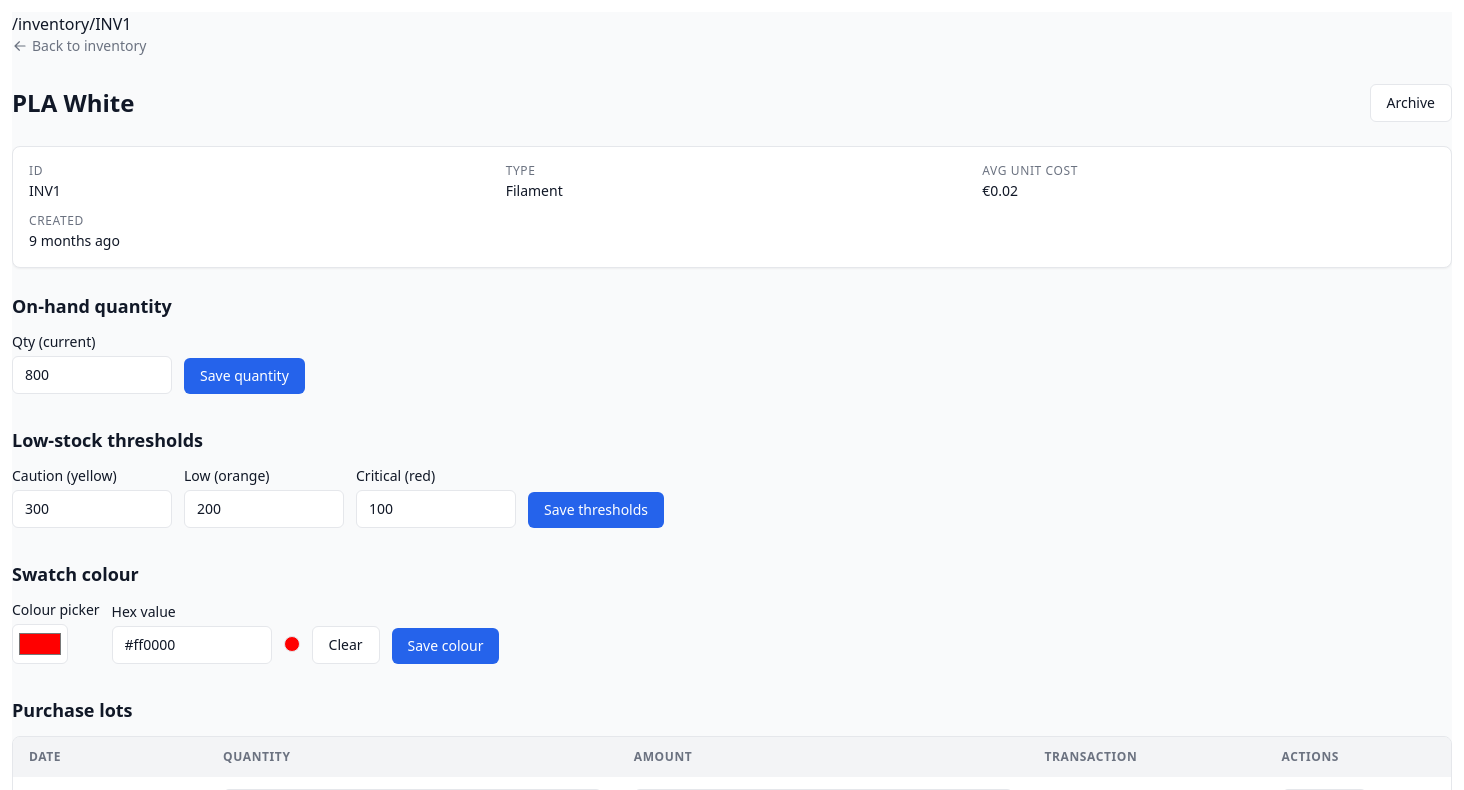
it: InventoryDetailPage › QtyEditor › saves a corrected count, rounded to two decimals
Replace the text in the number field with test id "inventory-detail-qty-current" with "900.567" at x=92, y=375, box 12,356 -> 172,394
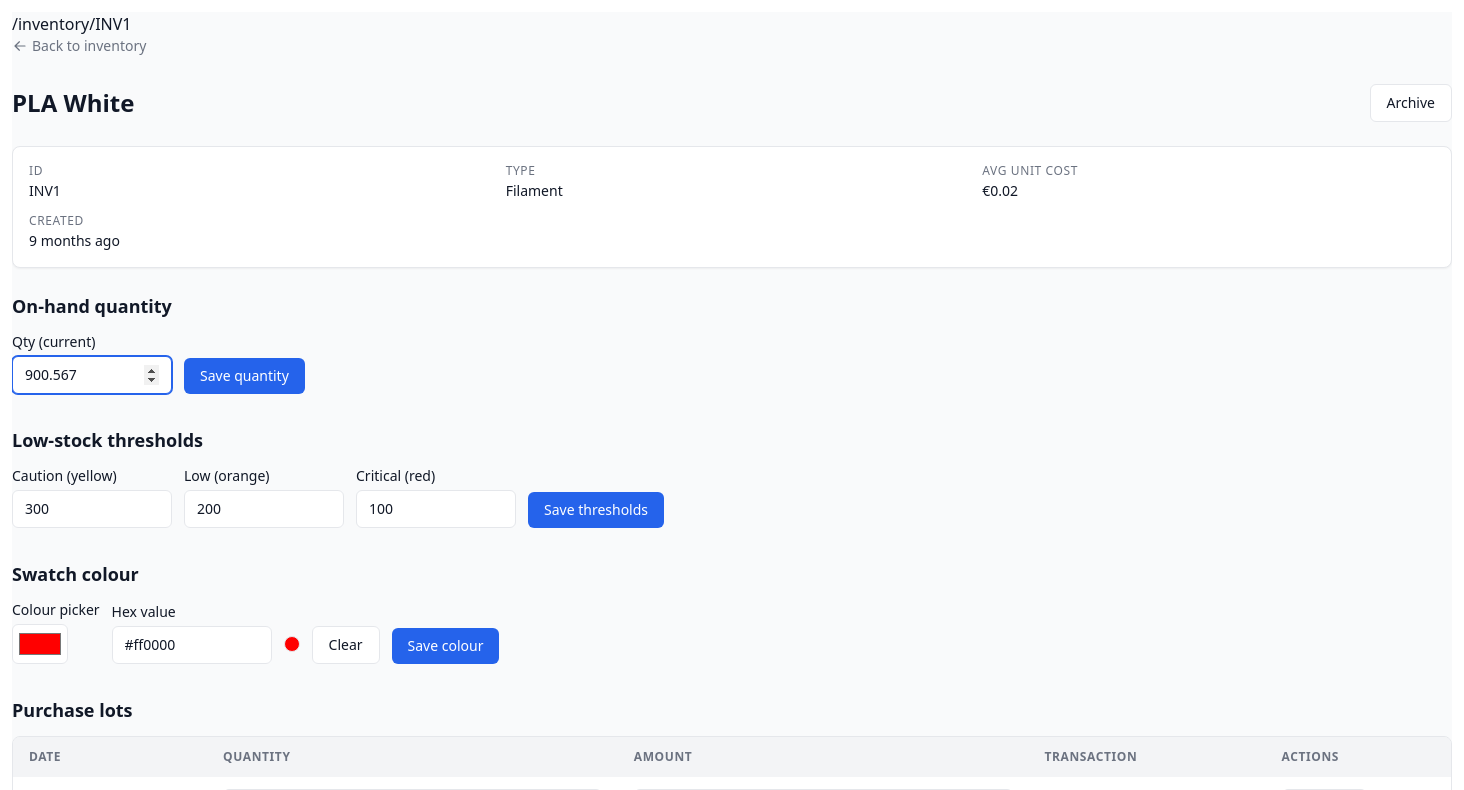
Click the button with test id "inventory-detail-save-qty" at x=244, y=376, box 184,358 -> 305,394
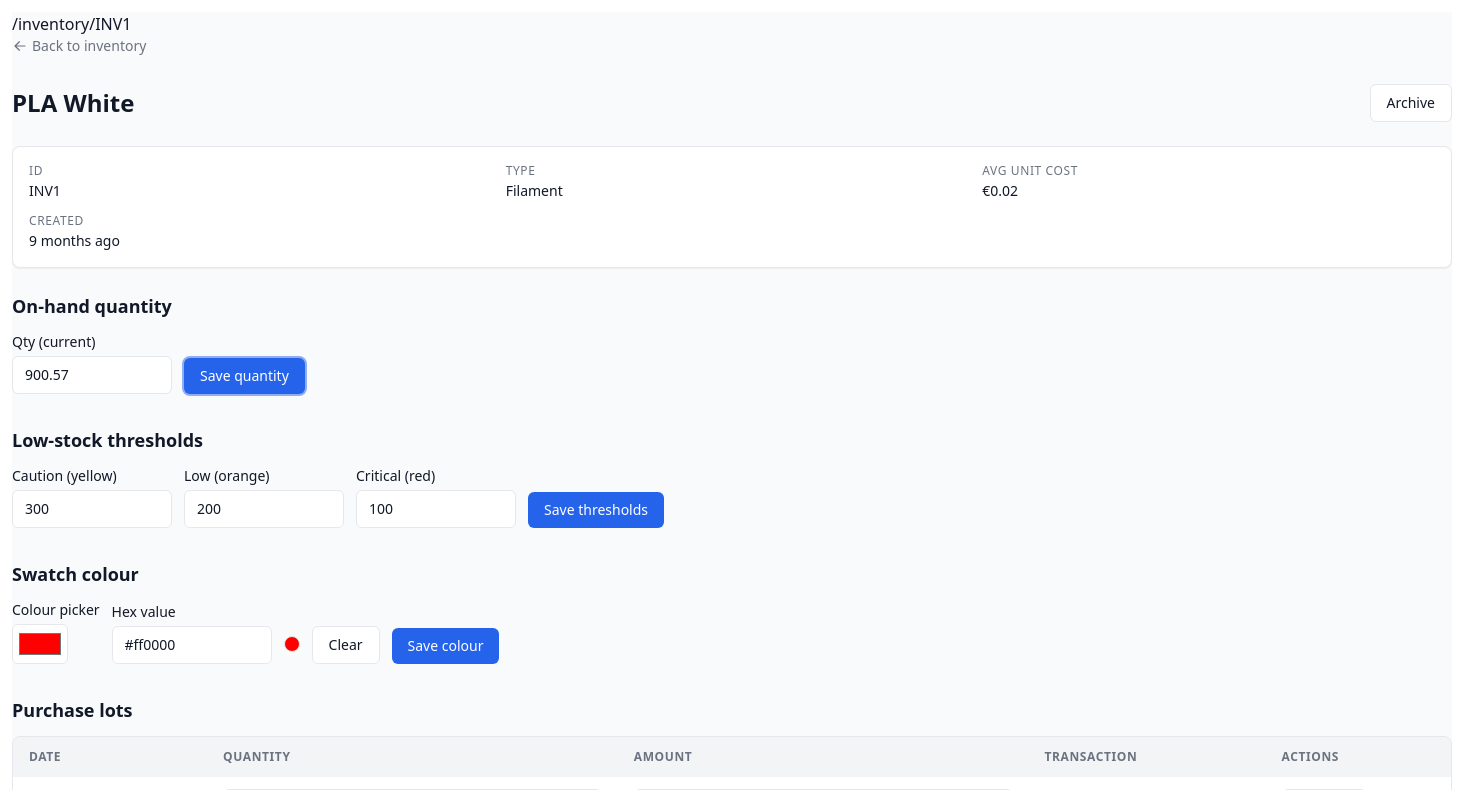
Expected: the number field with test id "inventory-detail-qty-current" holds "900.57", 12,356 -> 172,394
